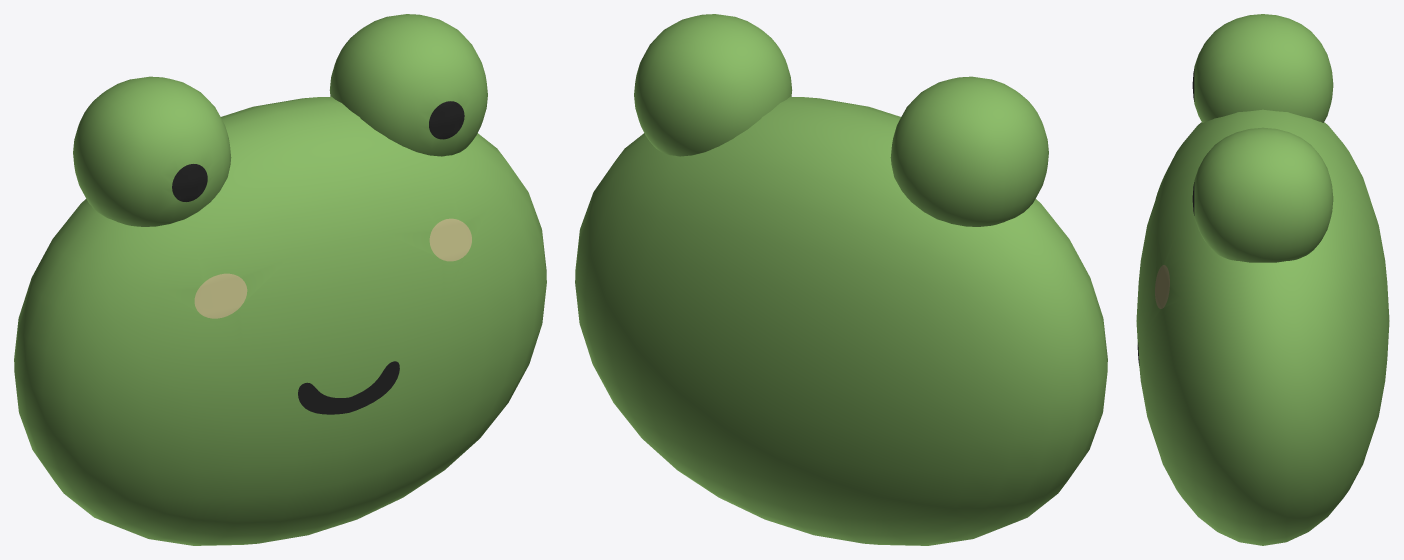
File: froghead.glb
3 renders of one model, left to right at view 1: azimuth 30°, elevation 25°; view 2: azimuth 150°, elevation 25°; view 3: azimuth 270°, elevation 25°, orthographic. The views are drawn at different scales.
Parts seen in each view (by area): view 1: Object_4, Object_5, Object_2, Object_3; view 2: Object_4; view 3: Object_4, Object_5.
Boxes of the visible parts, bbox=[...] form: Object_4: bbox=[14, 14, 546, 545]; Object_5: bbox=[194, 218, 471, 318]; Object_2: bbox=[172, 101, 464, 201]; Object_3: bbox=[298, 361, 399, 414]; Object_4: bbox=[575, 14, 1107, 545]; Object_4: bbox=[1136, 14, 1389, 545]; Object_5: bbox=[1155, 265, 1169, 308].
Size of the model in its own units: 0.6839 by 0.6064 by 0.3221.
